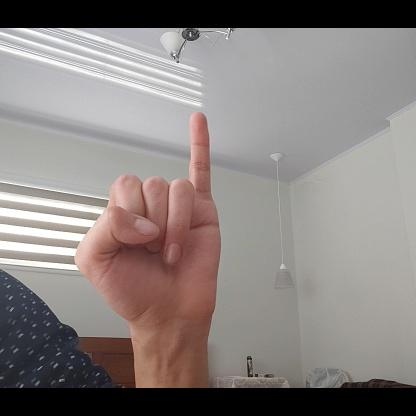I: (77, 109, 224, 323)
